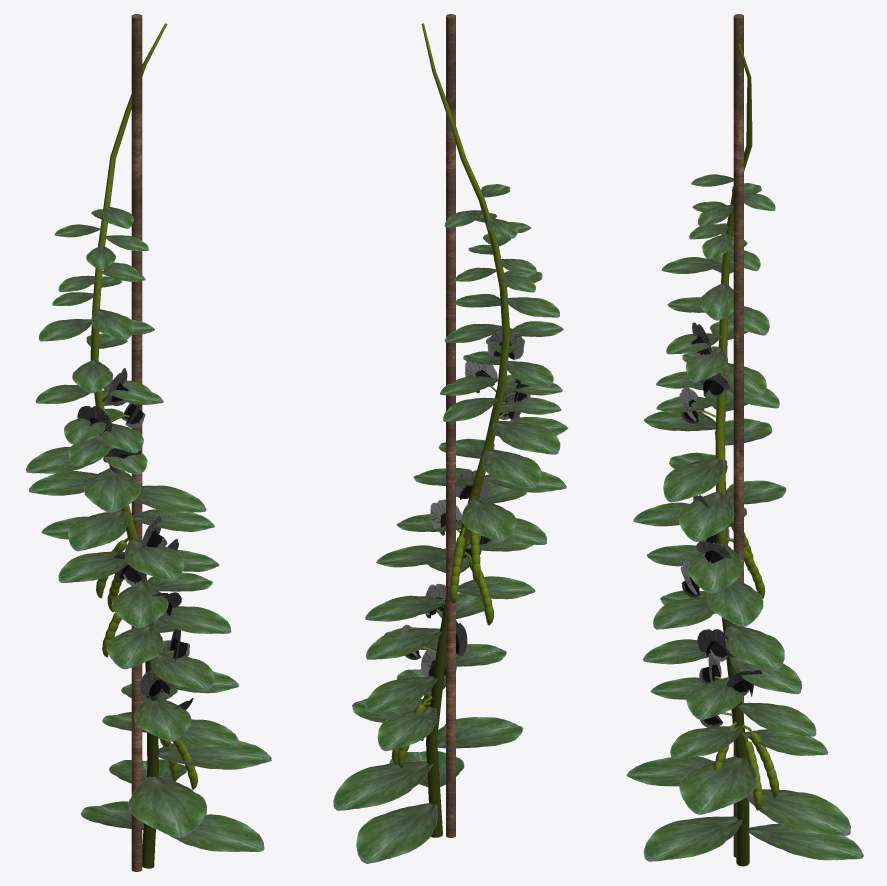
The model's file is fave_up_fiori.FBX.
3 renders of one model, left to right at view 1: azimuth 30°, elevation 25°; view 2: azimuth 150°, elevation 25°; view 3: azimuth 270°, elevation 25°, orthographic. The views are drawn at different scales.
Parts seen in each view (by area): view 1: fave_up_flowers; view 2: fave_up_flowers; view 3: fave_up_flowers.
Part boxes in pixels (box(x1,y1,x2,y2)): fave_up_flowers: box(25, 14, 271, 871); fave_up_flowers: box(333, 14, 568, 863); fave_up_flowers: box(626, 14, 863, 866).
Bounding box in the file's own units: 21.42 × 70.15 × 19.78.
